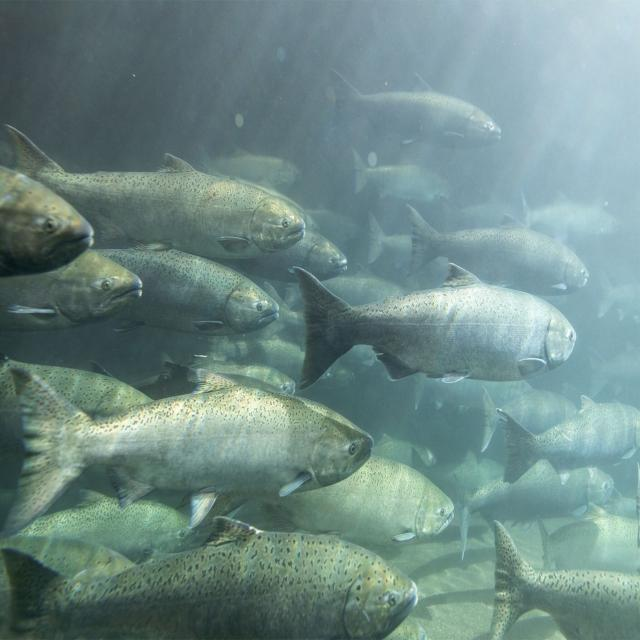salmon: (0, 347, 386, 528), (0, 525, 429, 634), (282, 248, 591, 382), (158, 421, 468, 546), (0, 132, 325, 247), (68, 242, 278, 341), (0, 239, 152, 336), (0, 171, 104, 275)
